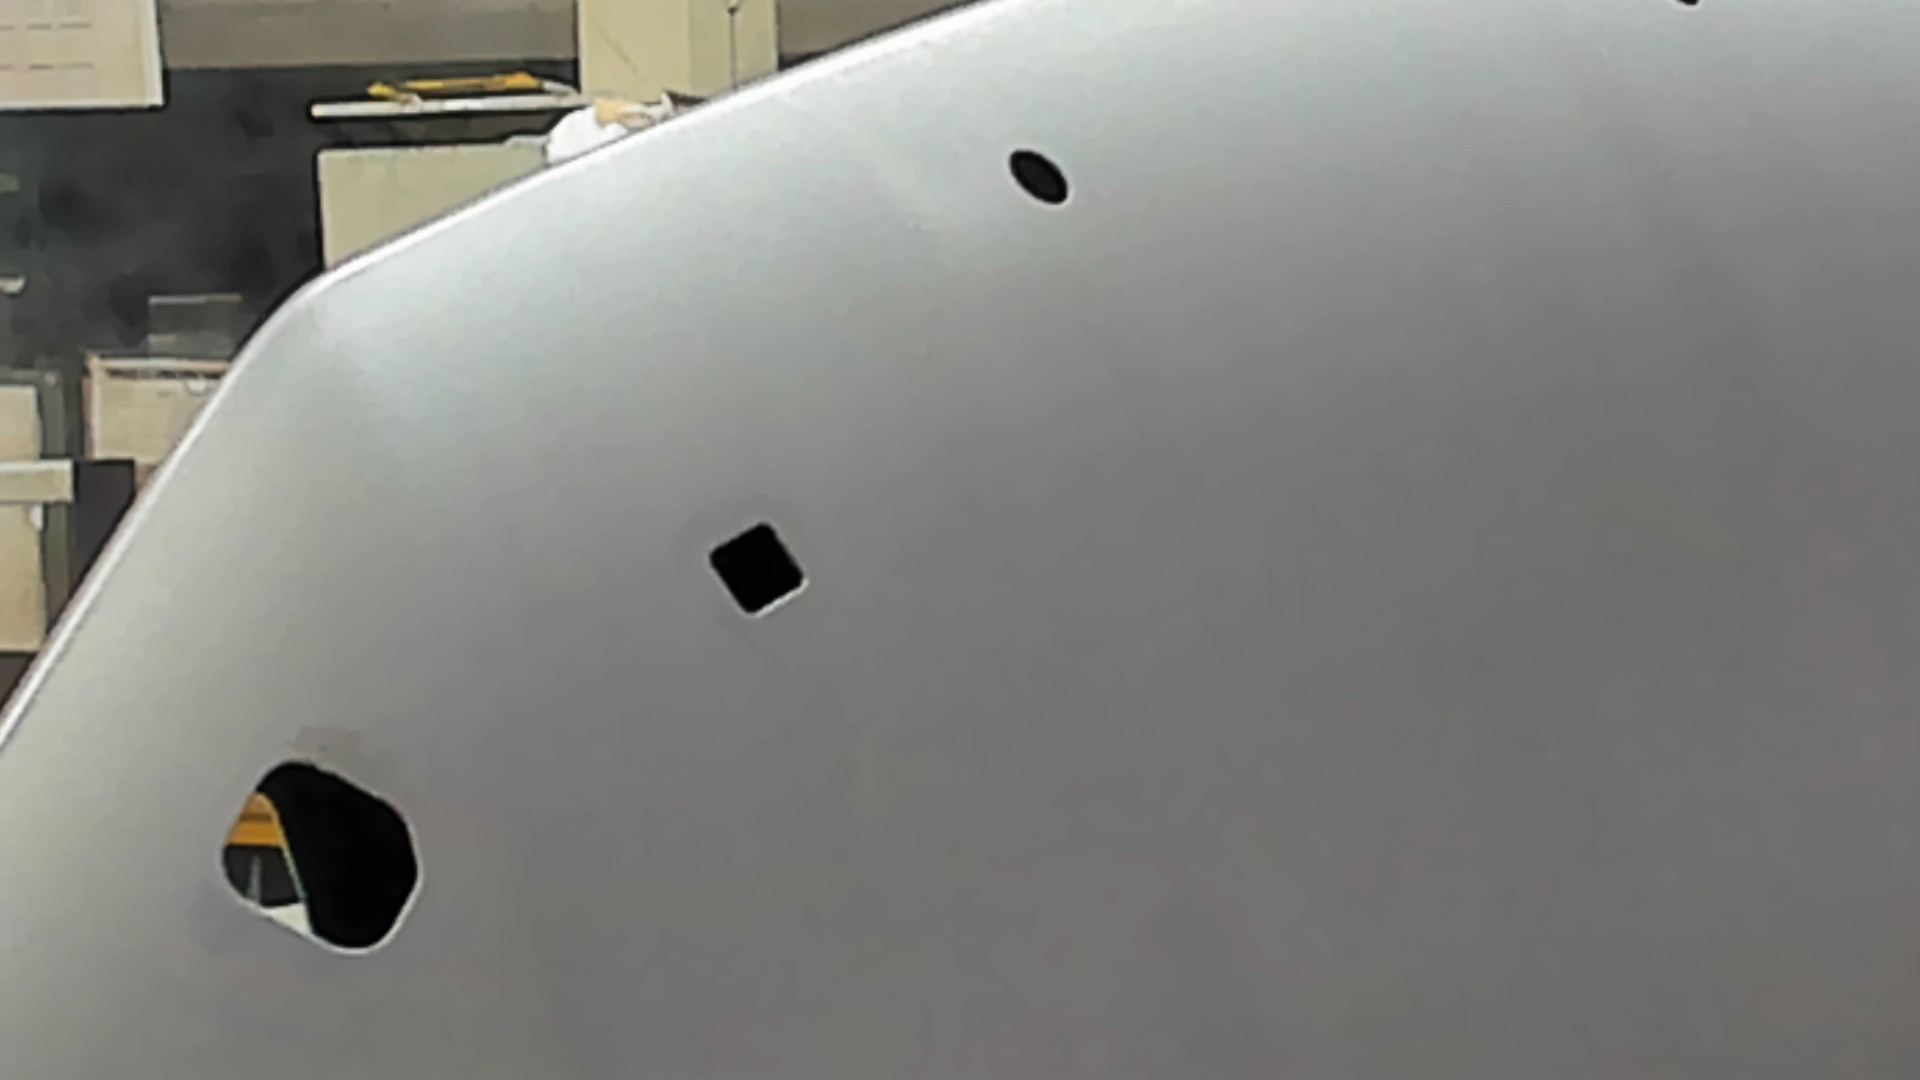Agujero: (705, 521, 811, 617), (1006, 146, 1071, 204)
Agujerote: (218, 760, 423, 956)
